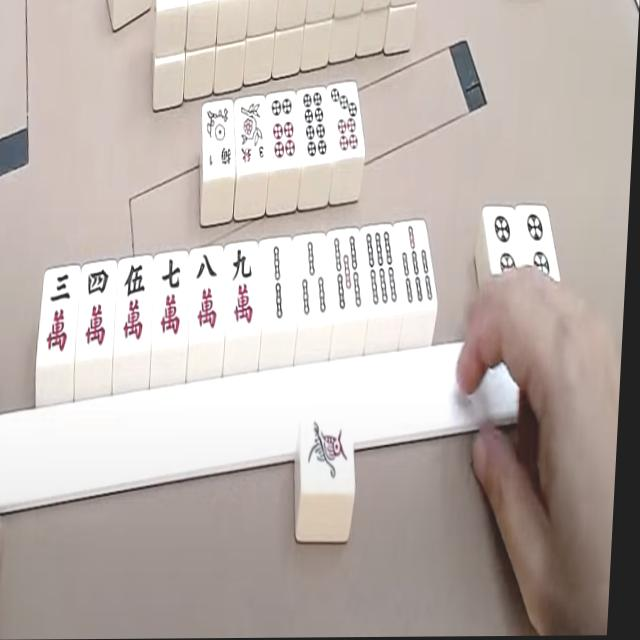f1: (200, 105, 234, 173)
ff3: (233, 97, 269, 171)
m3: (39, 267, 81, 363)
m4: (76, 265, 118, 359)
m5: (113, 260, 153, 352)
m7: (152, 254, 190, 340)
m8: (188, 251, 226, 334)
m9: (224, 247, 260, 327)
s1: (298, 418, 353, 485)
s2: (259, 242, 293, 325)
s3: (295, 239, 331, 321)
s5: (326, 231, 366, 315)
s6: (360, 227, 402, 310)
s7: (396, 223, 439, 308)
t2: (522, 209, 558, 286), (487, 208, 518, 284)
t6: (265, 95, 299, 168)
t7: (325, 79, 365, 162)
t8: (296, 88, 334, 162)
